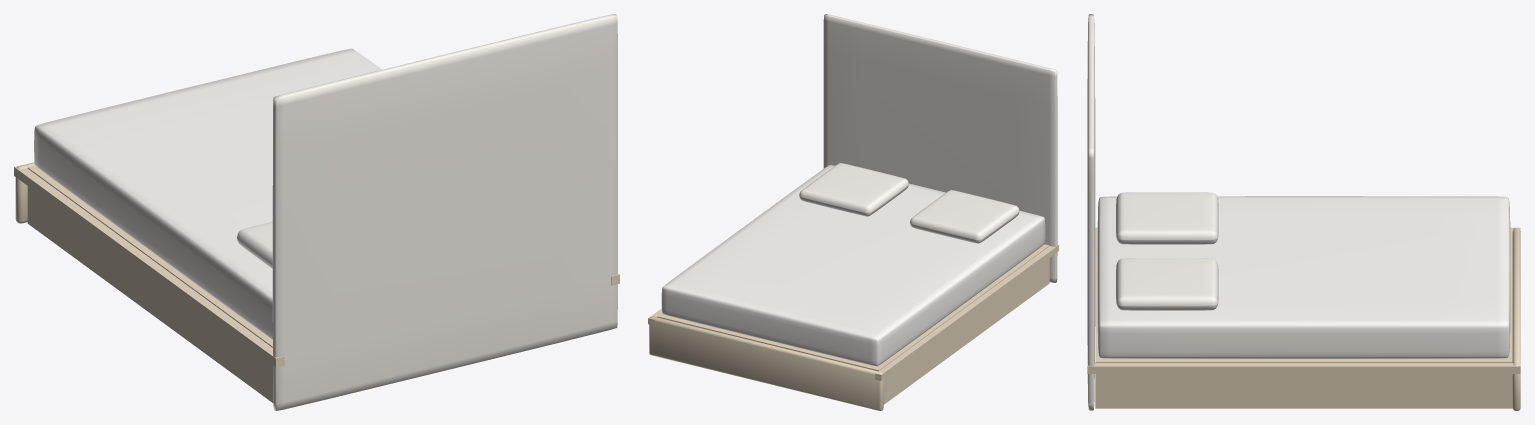
The picture shows the model from 3 angles, left to right: view 1: azimuth 30°, elevation 25°; view 2: azimuth 150°, elevation 25°; view 3: azimuth 270°, elevation 25°; orthographic projection. The views are drawn at different scales.
Visible parts, largest first — view 1: Headboard, Mattress, BedFrame, Pillow, Footboard; view 2: Mattress, Headboard, Footboard, BedFrame, Pillow, Pillow.001; view 3: Mattress, BedFrame, Pillow, Pillow.001, Headboard, Footboard.
Boxes of the visible parts, x1,y1,x2,y2 form: Headboard: [272, 14, 617, 410]; Mattress: [34, 48, 381, 339]; BedFrame: [14, 165, 619, 402]; Pillow: [237, 222, 272, 268]; Footboard: [15, 162, 34, 223]; Mattress: [661, 165, 1045, 366]; Headboard: [823, 14, 1057, 282]; Footboard: [649, 316, 883, 410]; BedFrame: [648, 244, 1058, 404]; Pillow: [910, 190, 1019, 243]; Pillow.001: [799, 163, 908, 216]; Mattress: [1097, 196, 1510, 358]; BedFrame: [1087, 227, 1520, 408]; Pillow: [1116, 192, 1218, 244]; Pillow.001: [1116, 258, 1218, 310]; Headboard: [1087, 14, 1095, 410]; Footboard: [1512, 228, 1520, 410].
Bounding box in the file's own units: 1.6 × 1.4 × 2.11.
